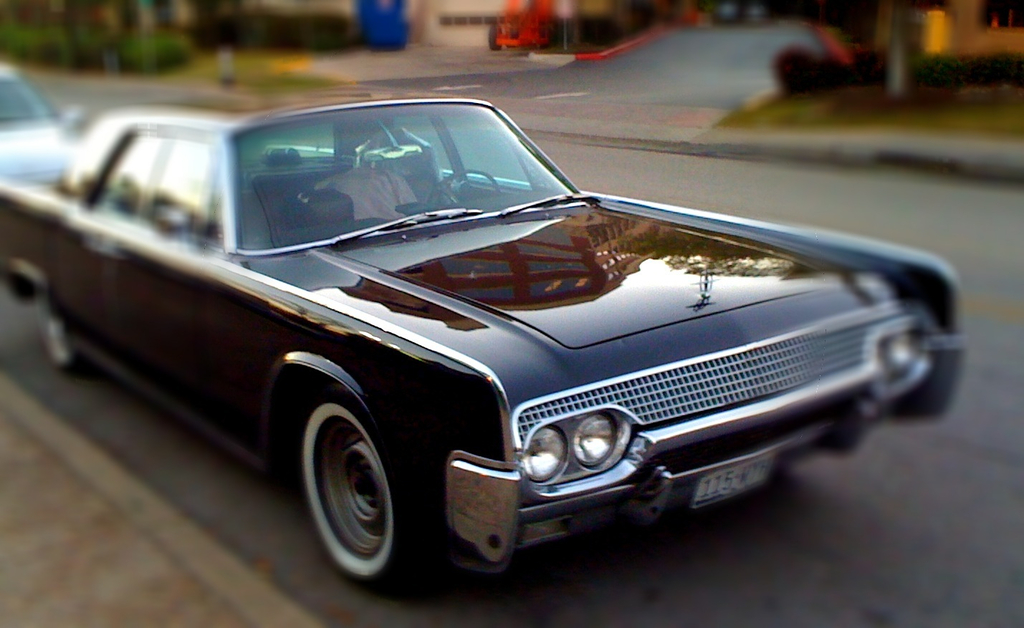Car: (7, 111, 973, 580), (0, 61, 86, 186)
